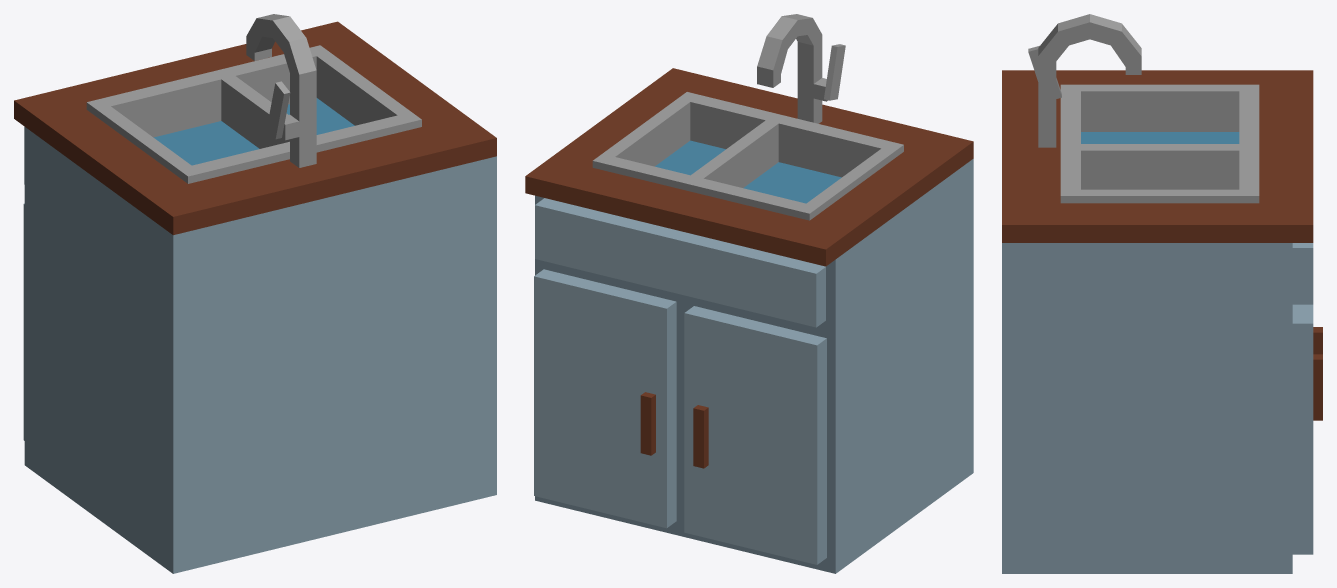
Rendered from sink.fbx.
3 views of the same model, side by side, from view 1: azimuth 30°, elevation 25°; view 2: azimuth 150°, elevation 25°; view 3: azimuth 270°, elevation 25° (orthographic). The views are drawn at different scales.
Visible parts, largest first — view 1: Sink; view 2: Sink; view 3: Sink.
Part boxes in pixels (x1=…): Sink: x1=14, y1=14, x2=496, y2=573; Sink: x1=525, y1=14, x2=973, y2=573; Sink: x1=1002, y1=14, x2=1322, y2=573.
Size of the model in its own units: 77.86 by 112 by 68.32.
